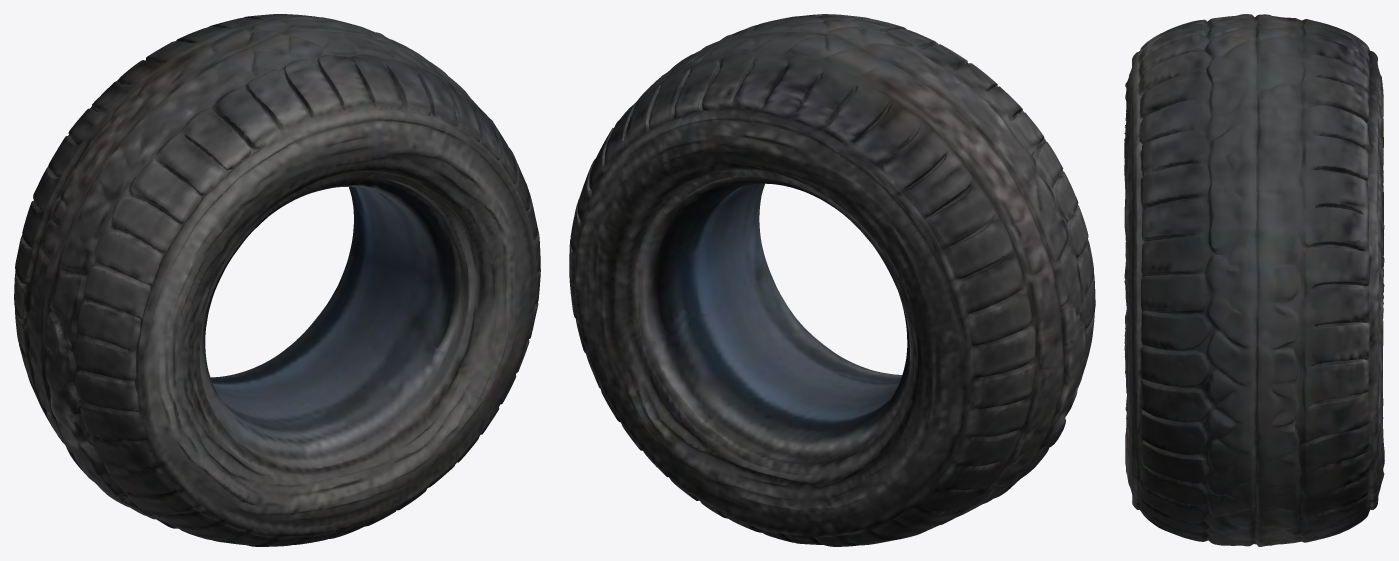
The model's file is rest-reifen.glb.
3 renders of one model, left to right at view 1: azimuth 30°, elevation 25°; view 2: azimuth 150°, elevation 25°; view 3: azimuth 270°, elevation 25°, orthographic.
Visible parts, largest first — view 1: rest-reifen; view 2: rest-reifen; view 3: rest-reifen.
Boxes of the visible parts, <box> form: rest-reifen: <box>14,14,540,546</box>; rest-reifen: <box>569,14,1095,546</box>; rest-reifen: <box>1124,14,1384,546</box>.
Size of the model in its own units: 0.13 by 0.1302 by 0.0632.
1 material, 1 textured.
